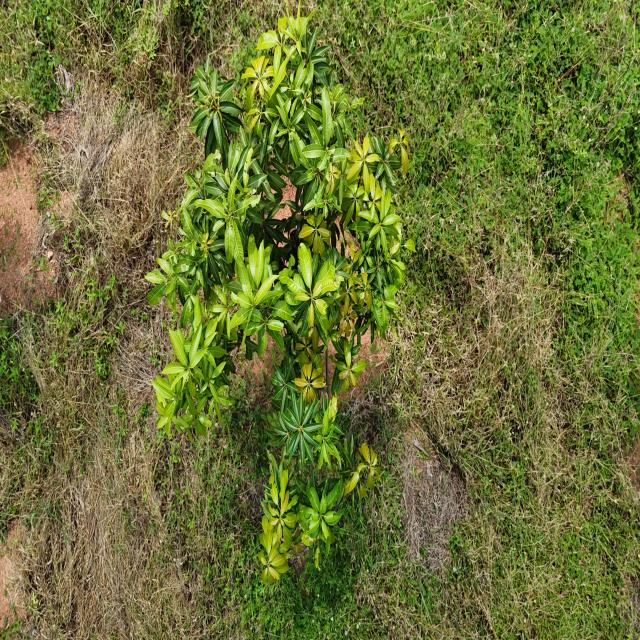mangoTree: (144, 9, 417, 584)
